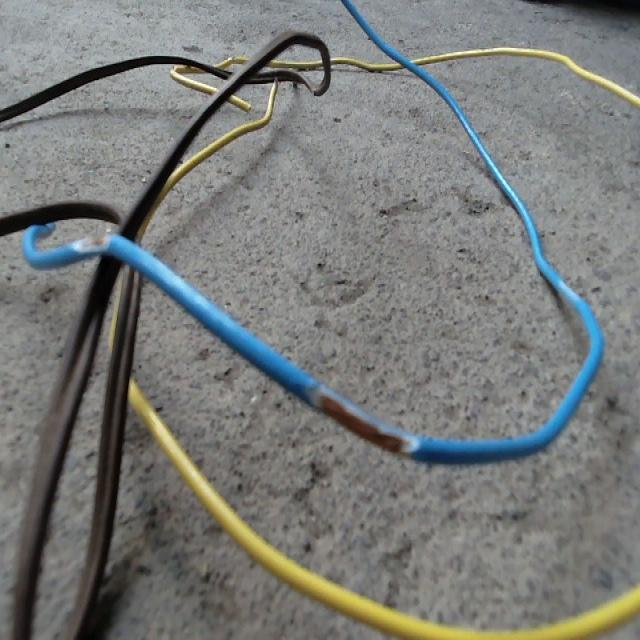-: (309, 381, 417, 455), (75, 230, 109, 254)
